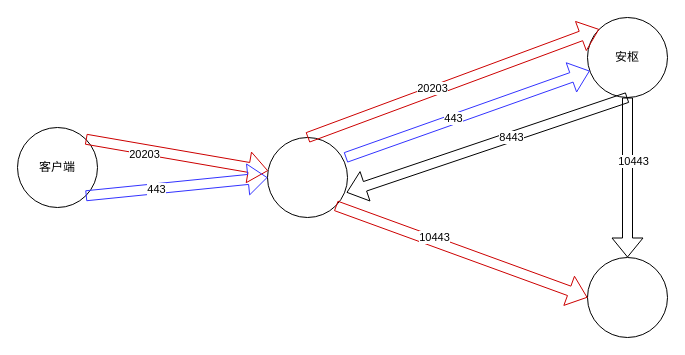
Image size: 685x355. Some labels were removed from this diagram. Here are the shapes that lost their labels. From the top down, the centre of each, then its label:
(x=307, y=177): 接入网关 8443
(x=627, y=297): 应用网关 10443
